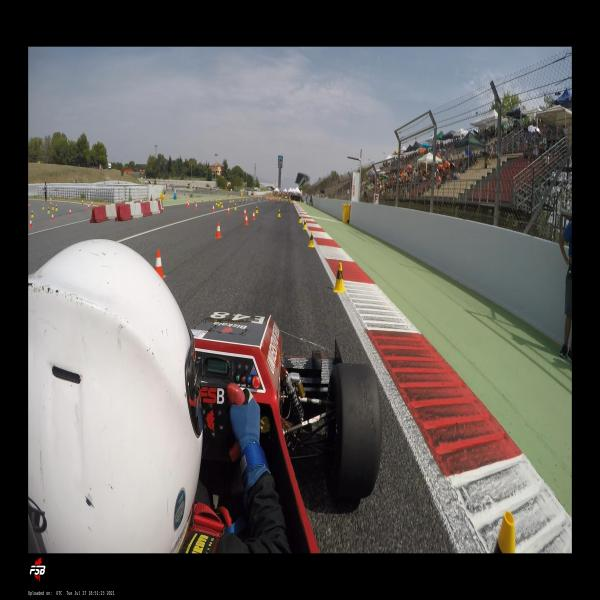orange_cone: (155, 250, 166, 279), (215, 223, 222, 239), (251, 211, 256, 220), (244, 214, 248, 225), (243, 208, 247, 217), (29, 218, 32, 228), (226, 207, 230, 214), (51, 213, 54, 221), (87, 204, 90, 210), (212, 204, 214, 212), (69, 208, 71, 216), (195, 203, 197, 209), (82, 199, 84, 205), (186, 201, 188, 206), (28, 203, 30, 208), (50, 201, 52, 206), (91, 201, 93, 206), (188, 202, 189, 208), (194, 199, 196, 202), (188, 200, 190, 202), (202, 199, 203, 202), (240, 201, 241, 204), (209, 199, 210, 201)
yellow_cone: (493, 511, 514, 553), (333, 263, 345, 292), (308, 231, 314, 248), (302, 219, 306, 230), (30, 210, 34, 218), (298, 215, 301, 223), (255, 206, 258, 213), (47, 207, 50, 214), (55, 204, 58, 211), (234, 204, 237, 210), (278, 210, 280, 218), (160, 192, 162, 199), (218, 201, 220, 207), (221, 202, 223, 208), (42, 204, 44, 210), (52, 204, 54, 210), (216, 200, 218, 205), (220, 200, 222, 204), (232, 198, 234, 202), (163, 192, 164, 199), (228, 198, 229, 203), (230, 198, 231, 202), (239, 198, 240, 201), (244, 199, 245, 201)
